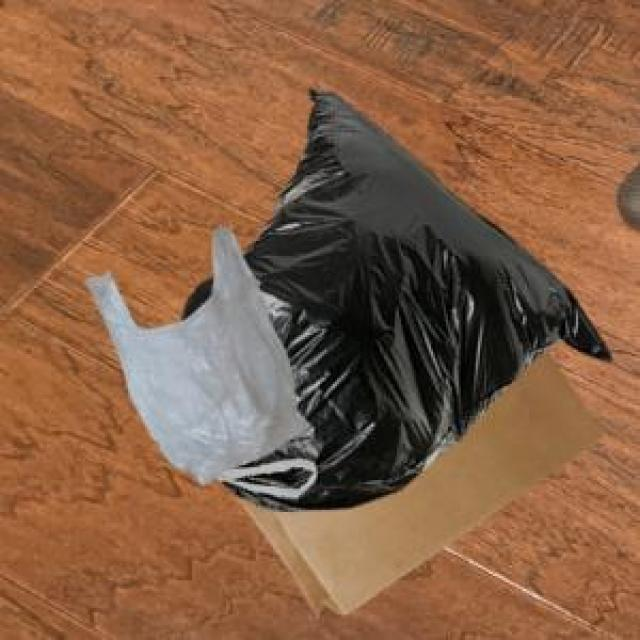miscellaneous trash: (178, 85, 606, 508)
paper: (235, 346, 600, 614)
